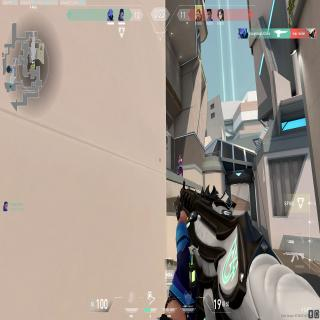ENEMY-BODY: (178, 152, 183, 178)
ENEMY-HEAD: (179, 154, 181, 160)
